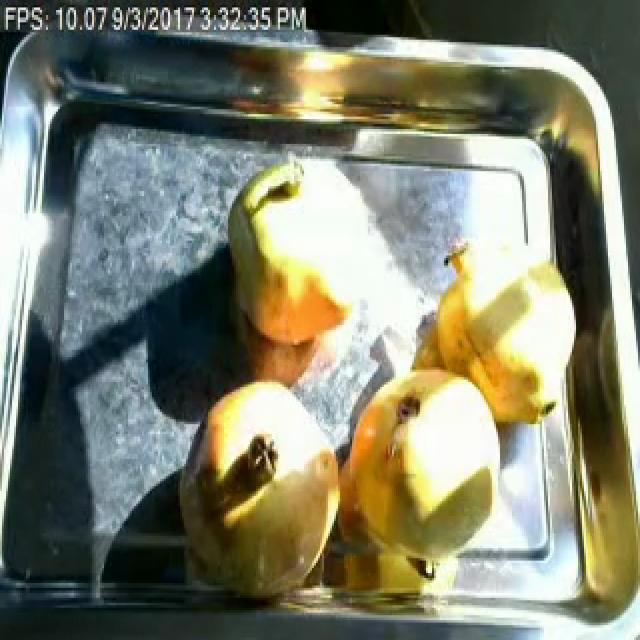fruit: (334, 350, 520, 595), (168, 364, 346, 608), (418, 233, 584, 447), (220, 142, 372, 362)
